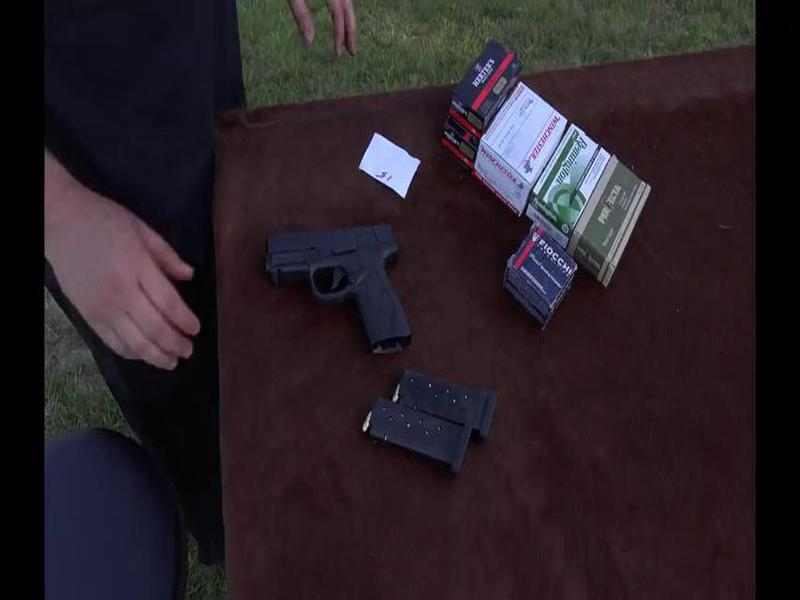Pistola: (267, 229, 437, 355)
